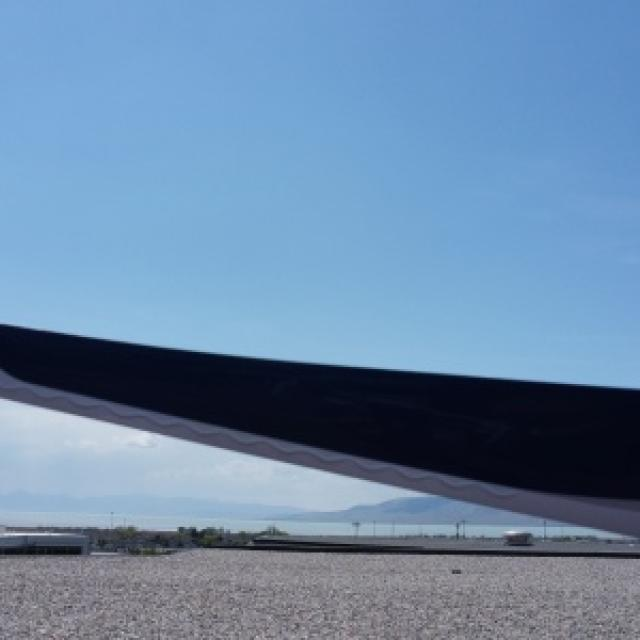healthy: (0, 324, 638, 535)
